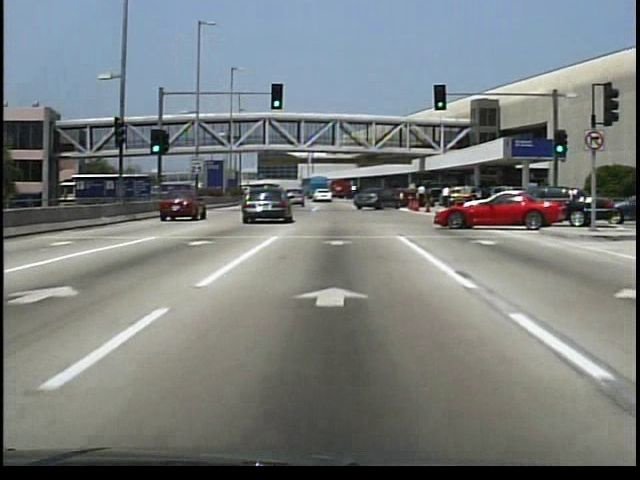person: (414, 181, 430, 210), (440, 180, 454, 204), (225, 128, 232, 144)
